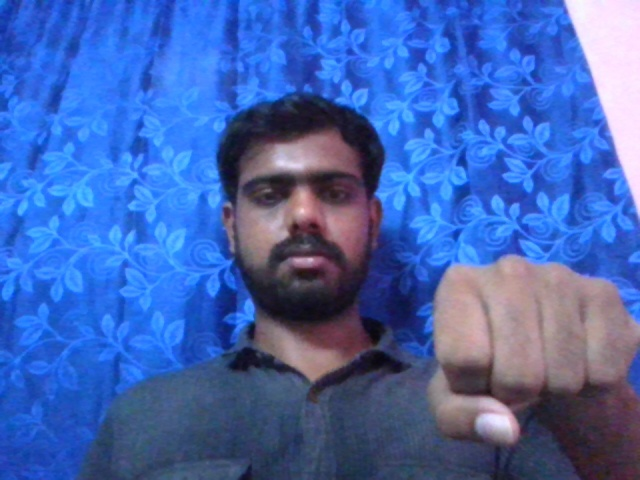Yes: (427, 247, 637, 445)
